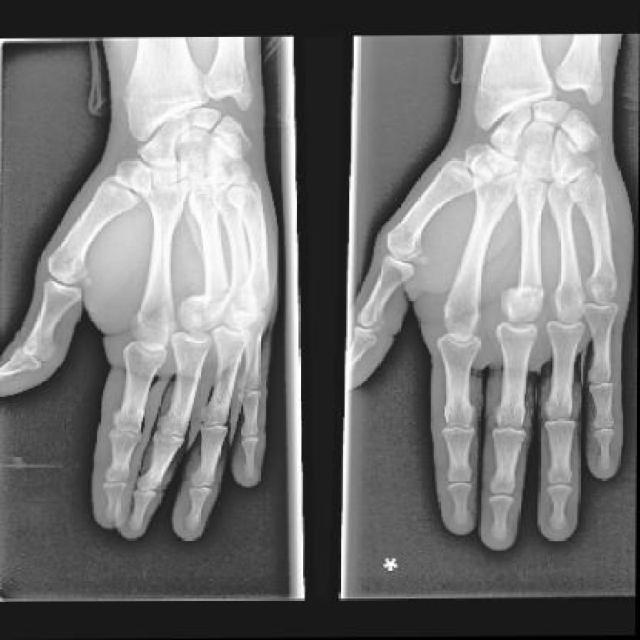Fracture: (498, 279, 548, 310), (191, 283, 235, 317)
